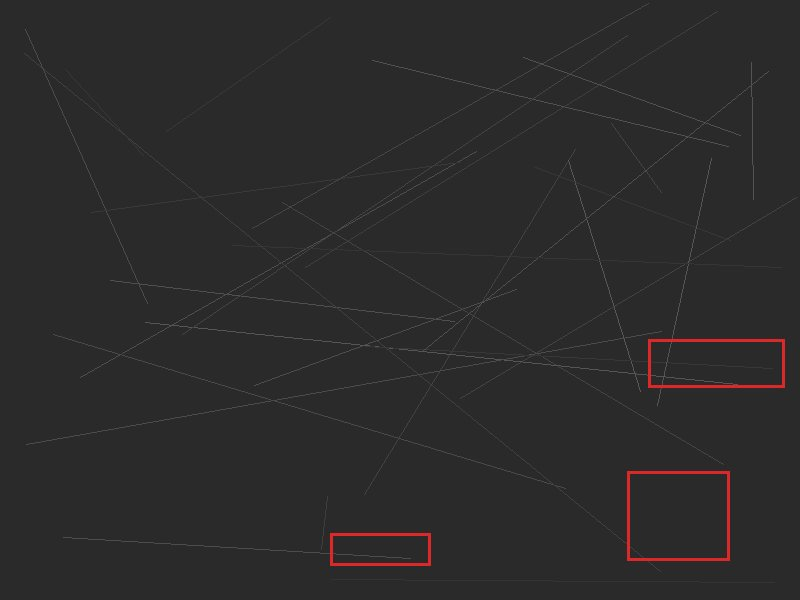D20: (627, 471, 729, 560)
D40: (648, 339, 784, 387), (330, 533, 430, 565)
